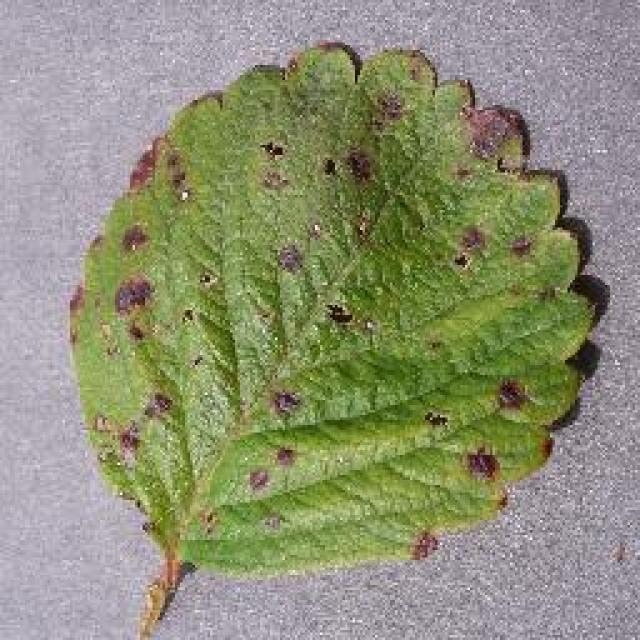Strawberry leaf scorch: (93, 64, 562, 504)
